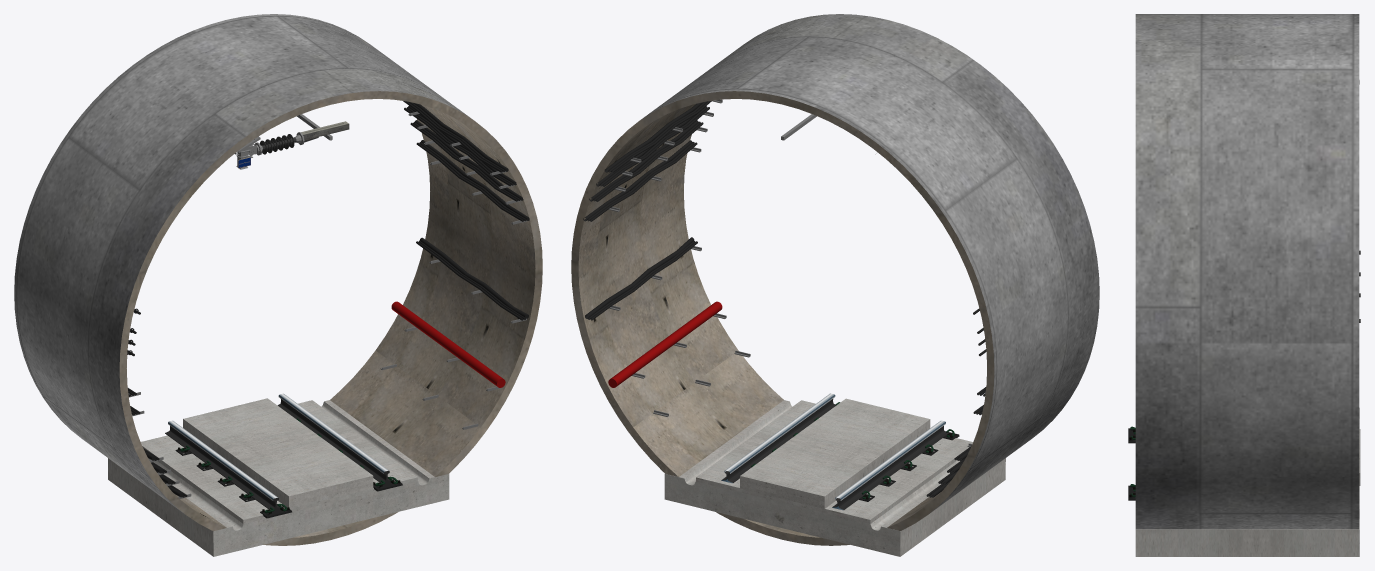
The model's file is 4 meter tunnel with texture.fbx.
The picture shows the model from 3 angles, left to right: view 1: azimuth 30°, elevation 25°; view 2: azimuth 150°, elevation 25°; view 3: azimuth 270°, elevation 25°; orthographic projection. The views are drawn at different scales.
Visible parts, largest first — view 1: Circle002, Line001, Rectangle004, Rectangle003, Rectangle006, Rectangle005, Circle068; view 2: Circle002, Line001, Rectangle004, Rectangle003, Rectangle006, Rectangle005, Circle068; view 3: Circle002, Line001.
Part boxes in pixels (box(x1,y1,x2,y2)): Circle002: box(14, 14, 542, 545); Line001: box(108, 400, 449, 556); Rectangle004: box(183, 398, 373, 508); Rectangle003: box(140, 400, 417, 523); Rectangle006: box(165, 420, 280, 510); Rectangle005: box(277, 393, 392, 483); Circle068: box(391, 301, 505, 387); Circle002: box(571, 14, 1099, 545); Line001: box(664, 400, 1005, 556); Rectangle004: box(740, 398, 930, 508); Rectangle003: box(696, 400, 973, 523); Rectangle006: box(832, 420, 948, 510); Rectangle005: box(721, 393, 835, 483); Circle068: box(608, 301, 722, 387); Circle002: box(1135, 14, 1359, 529); Line001: box(1135, 408, 1359, 556).
Bounding box in the file's own units: 5.8 × 5.8 × 2.6.
